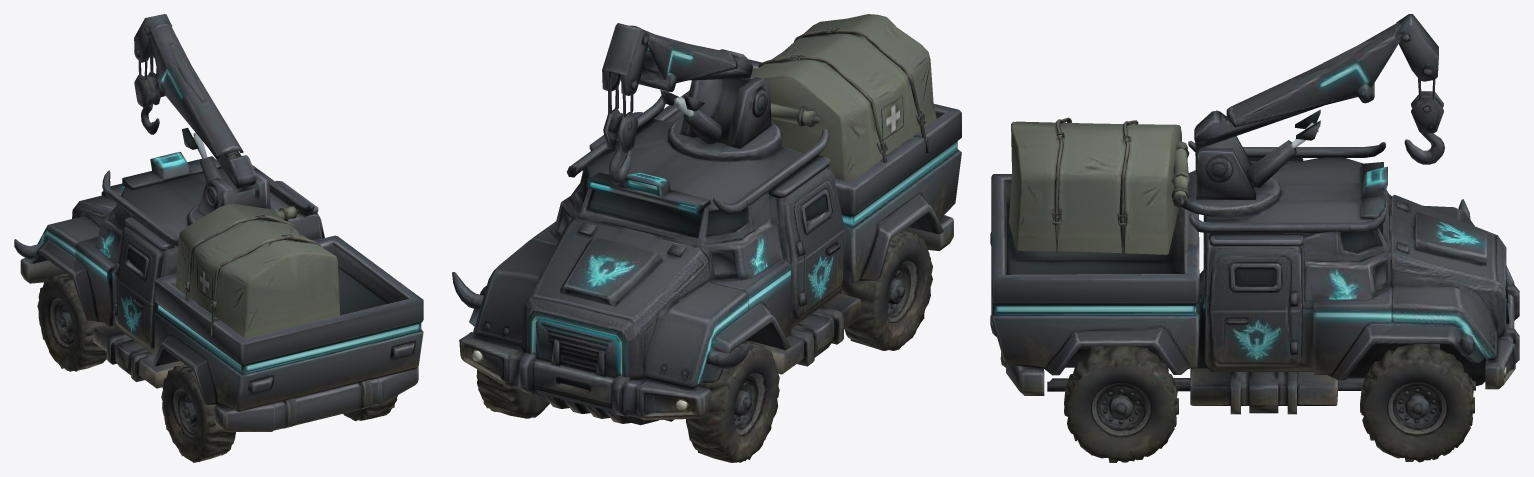
File: hub_lifter.glb
3 views of the same model, side by side, from view 1: azimuth 30°, elevation 25°; view 2: azimuth 150°, elevation 25°; view 3: azimuth 270°, elevation 25° (orthographic). The views are drawn at different scales.
Parts seen in each view (by area): view 1: Body, Trim; view 2: Body, Trim; view 3: Body, Trim.
Boxes of the visible parts, x1,y1,x2,y2 form: Body: (14,14,423,462); Trim: (40,72,421,372); Body: (452,14,961,462); Trim: (532,49,957,380); Body: (990,14,1519,462); Trim: (994,66,1485,356).
Bounding box in the file's own units: 3.08 × 4.06 × 5.
Materials: 2 (2 with a texture image).
